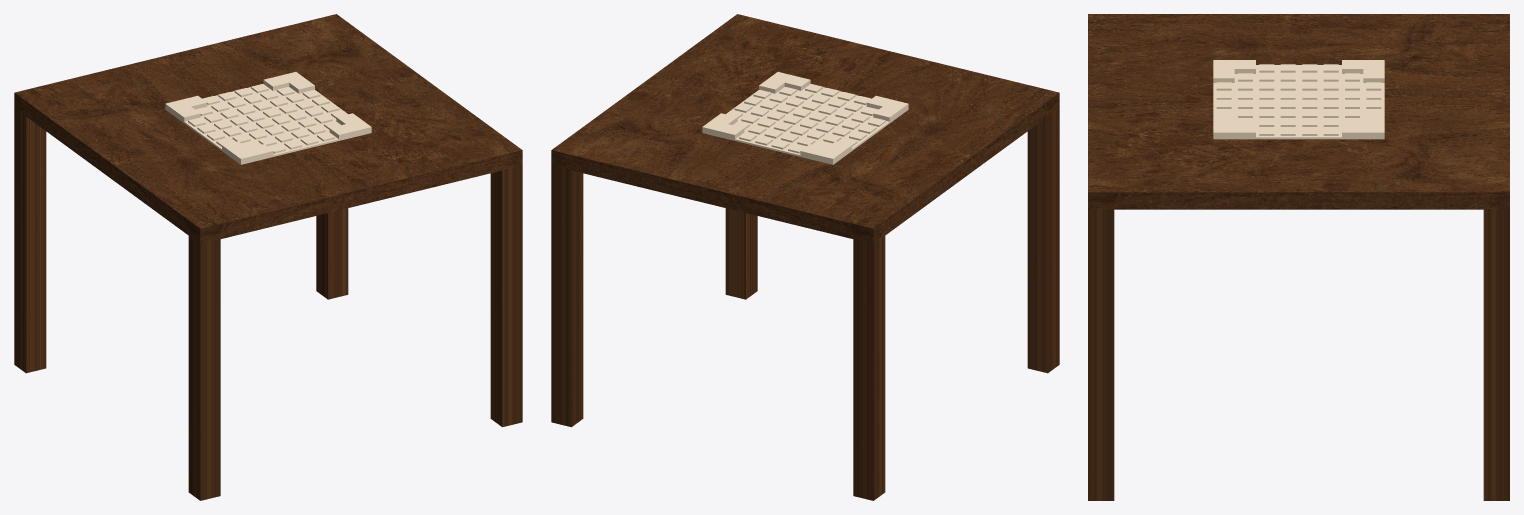
File: startingScene.gltf
3 renders of one model, left to right at view 1: azimuth 30°, elevation 25°; view 2: azimuth 150°, elevation 25°; view 3: azimuth 270°, elevation 25°, orthographic. The views are drawn at different scales.
Visible parts, largest first — view 1: Table, Plate; view 2: Table, Plate; view 3: Table, Plate.
Part boxes in pixels (bbox=[...]): Table: bbox=[14, 14, 522, 500]; Plate: bbox=[165, 72, 371, 164]; Table: bbox=[551, 14, 1059, 500]; Plate: bbox=[702, 72, 908, 164]; Table: bbox=[1088, 14, 1509, 500]; Plate: bbox=[1213, 60, 1384, 139].
Bounding box in the file's own units: 39.38 × 32.51 × 39.38.
4 materials, 1 textured.
